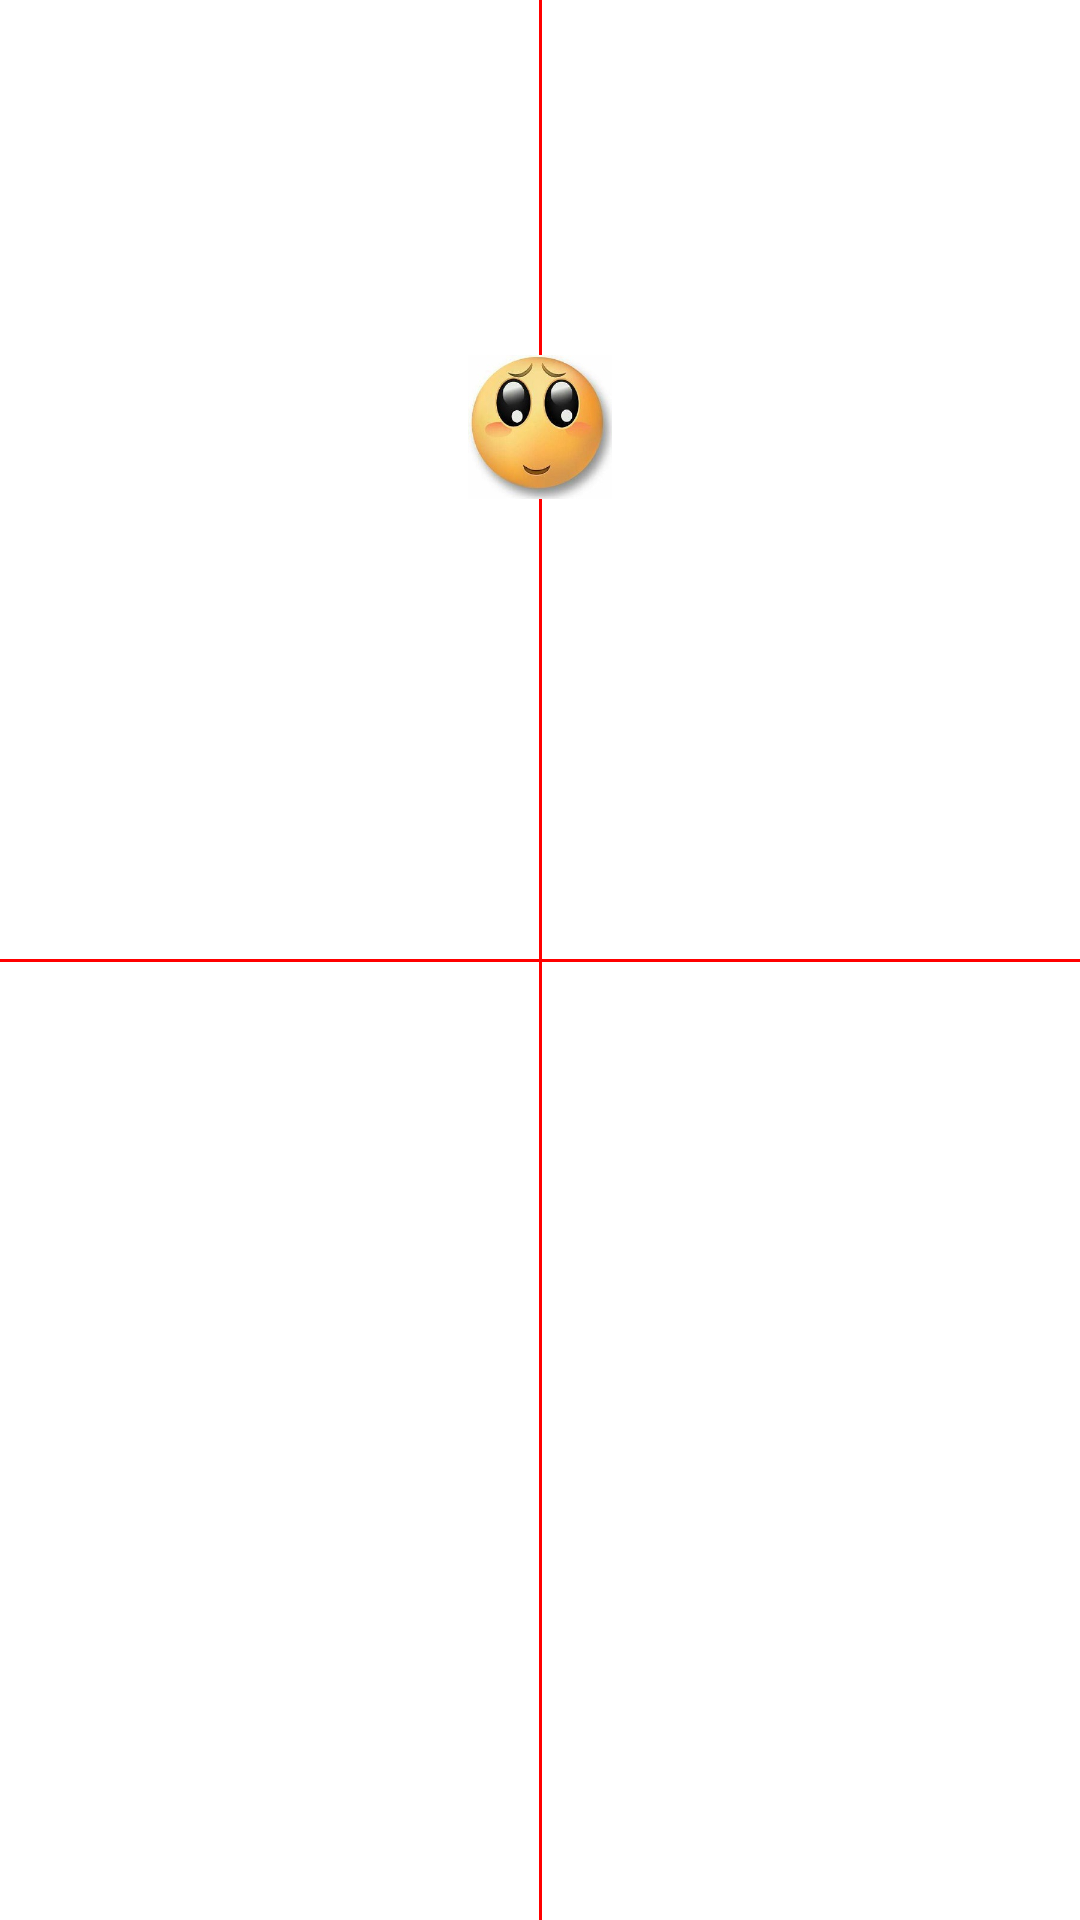

Named icons in this screenshot (1080w x 1920h) and their bounding boxes, (x1, y1, x2, y2):
emoji: (471, 356, 612, 499)
